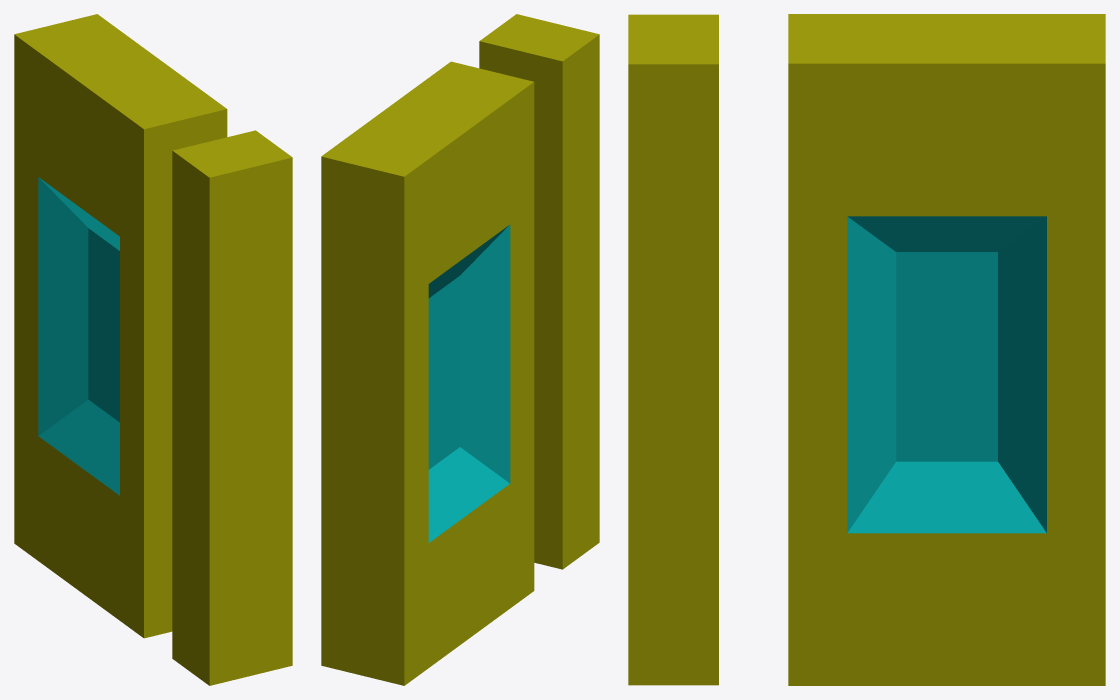
Rendered from BeveledHandle.fbx.
The picture shows the model from 3 angles, left to right: view 1: azimuth 30°, elevation 25°; view 2: azimuth 150°, elevation 25°; view 3: azimuth 270°, elevation 25°; orthographic projection. The views are drawn at different scales.
Visible parts, largest first — view 1: BeveledHandle; view 2: BeveledHandle; view 3: BeveledHandle.
Part boxes in pixels (left/top/right/bottom): BeveledHandle: left=14, top=14, right=292, bottom=685; BeveledHandle: left=321, top=14, right=599, bottom=685; BeveledHandle: left=628, top=14, right=1105, bottom=685.
Size of the model in its own units: 0.065 by 0.38 by 0.2643.
